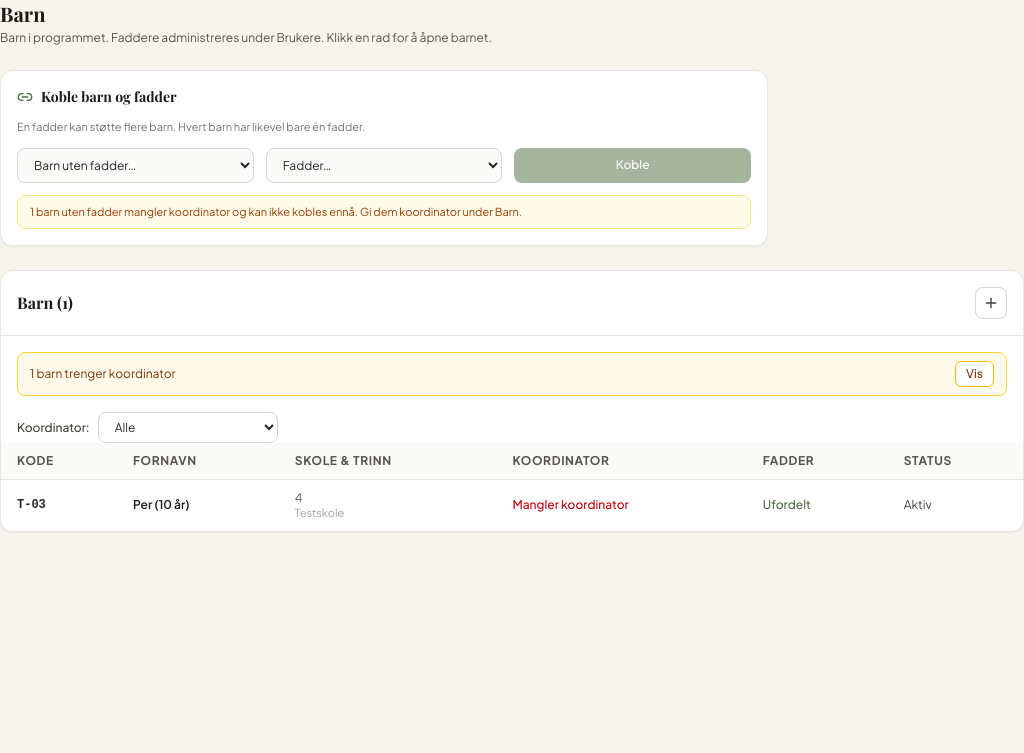
Scenario: Barn uten aktiv koordinator › fadderkontrollene er deaktivert med forklaring
The width and height of the screenshot is (1024, 753).
Click the text "T-03".
click(31, 505)  # box [1,480,117,531]
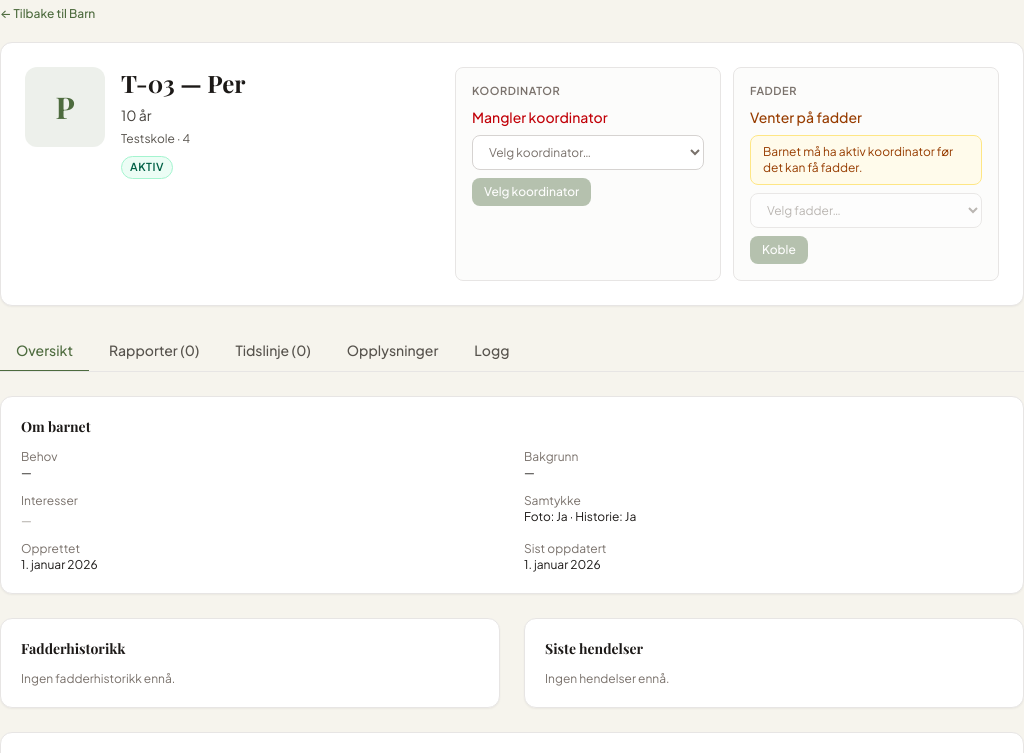
Expected: the button "Koble" is disabled, [750,236,808,264]
Expected: the text "Barnet må ha aktiv koordinator før det kan få fadder." is shown, [750,135,982,185]
Expected: the dropdown named "Velg fadder" is disabled, [750,193,982,228]
